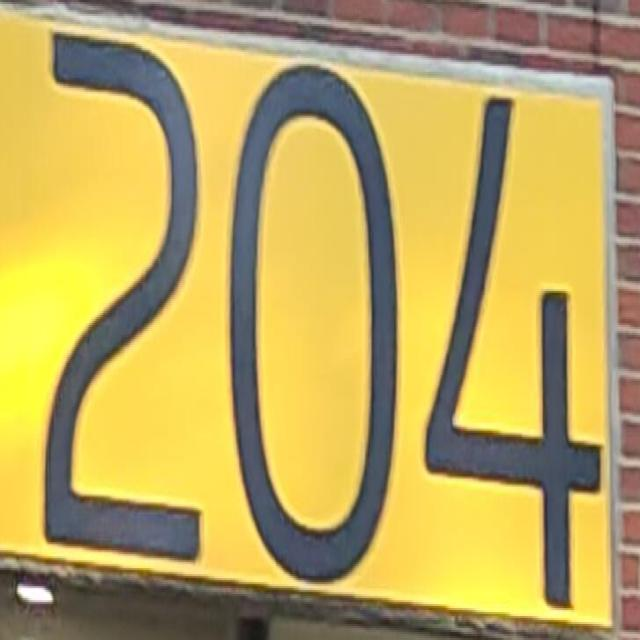character: (41, 11, 212, 572)
